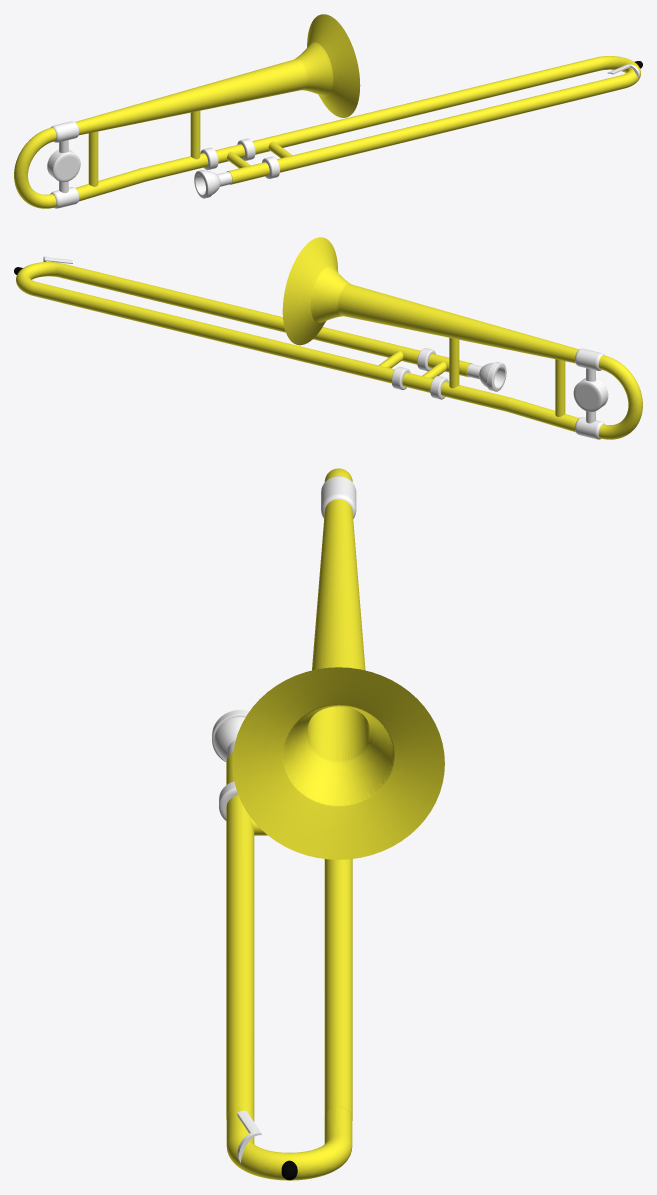
The model's file is trombone_2.0.glb.
3 views of the same model, one above another, from view 1: azimuth 30°, elevation 25°; view 2: azimuth 150°, elevation 25°; view 3: azimuth 270°, elevation 25° (orthographic). The views are drawn at different scales.
Parts seen in each view (by area): view 1: Object_4, Object_3; view 2: Object_4, Object_3; view 3: Object_4, Object_3.
Boxes of the visible parts, x1=… form: Object_4: x1=14, y1=14, x2=640, y2=208; Object_3: x1=47, y1=64, x2=639, y2=208; Object_4: x1=16, y1=237, x2=642, y2=439; Object_3: x1=43, y1=256, x2=608, y2=439; Object_4: x1=226, y1=468, x2=444, y2=1180; Object_3: x1=212, y1=476, x2=356, y2=1162.
Size of the model in its own units: 133 by 25.49 by 21.79.
